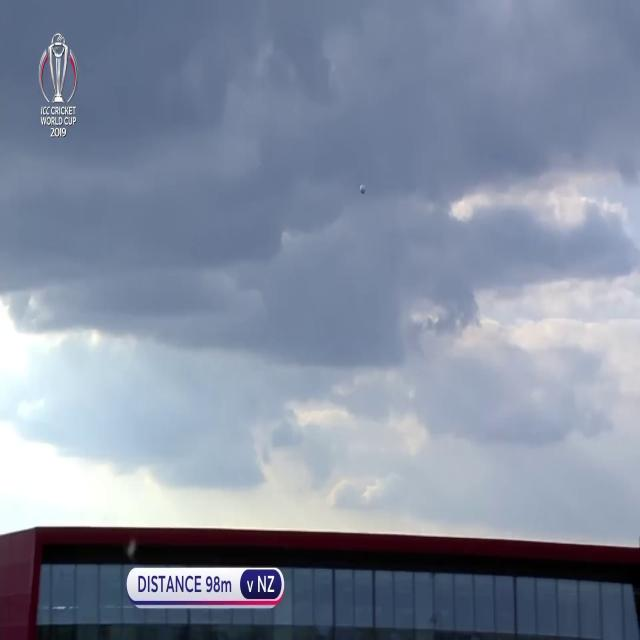ball: (358, 180, 368, 198)
